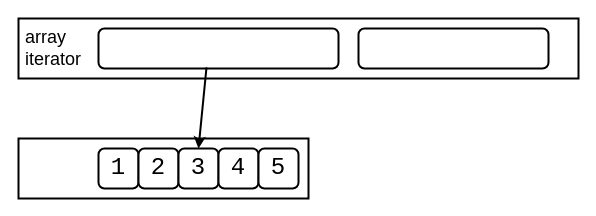
Some shapes in this 596 by 216 pixel diagram are drawn without their labels. The shapes that lost their labels are listed below. From the top down, each one's box as (x1, y1, x2, y2) in pixels, then its label:
(97, 27, 339, 69): current_element
(357, 27, 549, 69): total_length
(17, 137, 309, 199): array
